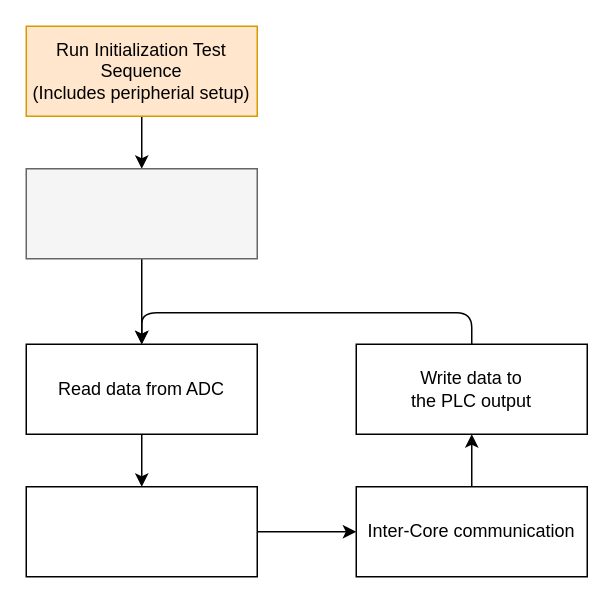
The diagram is 614 pixels wide and 603 high, and some of its shapes have lost their labels. Each missing label, with the box of its shape:
Decode data & Evaluate state: (25, 485, 257, 577)
Setup extern. watchdog: (25, 167, 257, 259)
